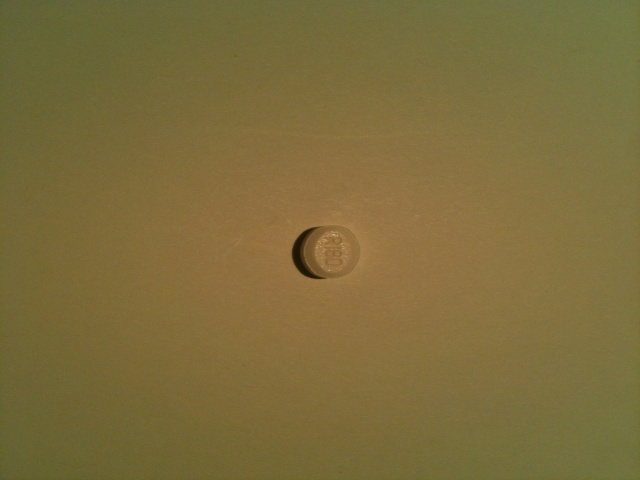0: (325, 258, 341, 267)
8: (324, 250, 343, 258)
I: (323, 245, 344, 250)
R: (321, 232, 344, 246)
